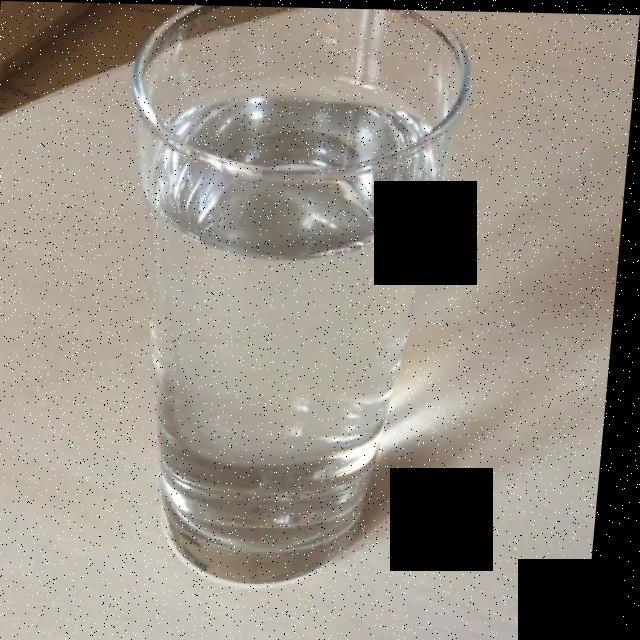water: (153, 107, 440, 526)
